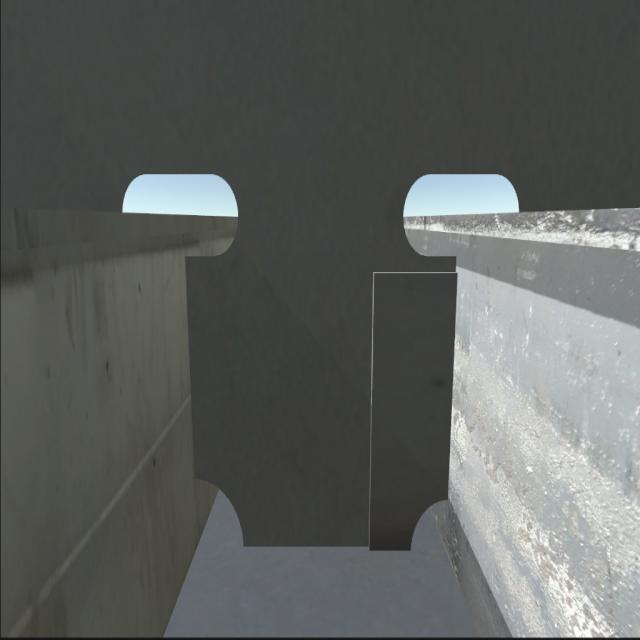fillet_hole: (193, 480, 244, 551), (412, 497, 449, 550)
fillet_yong_jeop_jang: (247, 538, 416, 562)
longi_yong_jeop_jang: (178, 251, 202, 493), (443, 252, 453, 503)
plate_CP01: (372, 271, 454, 548)
